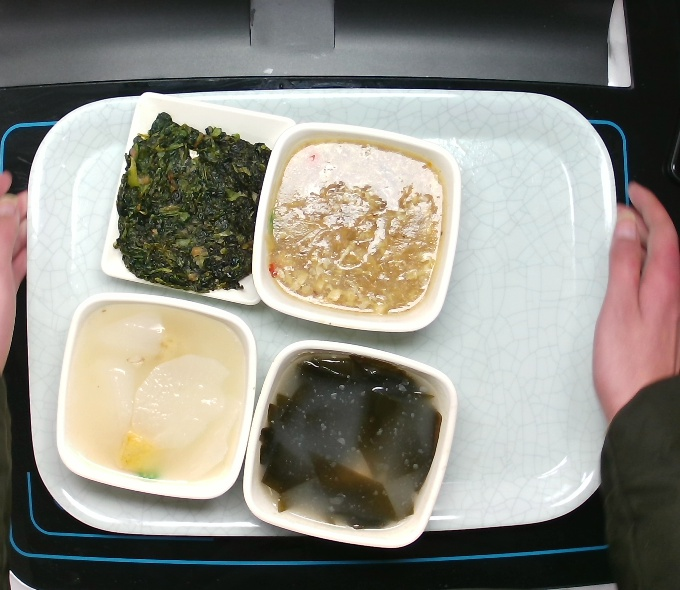wcq-HaiDaiPaiGuTang: (257, 350, 441, 539)
wcq-LuoBoYouPaoTang: (65, 300, 246, 496)
wcq-QinCaiBing: (114, 108, 275, 292)
wcq-SuanLaGeng: (258, 135, 446, 318)
